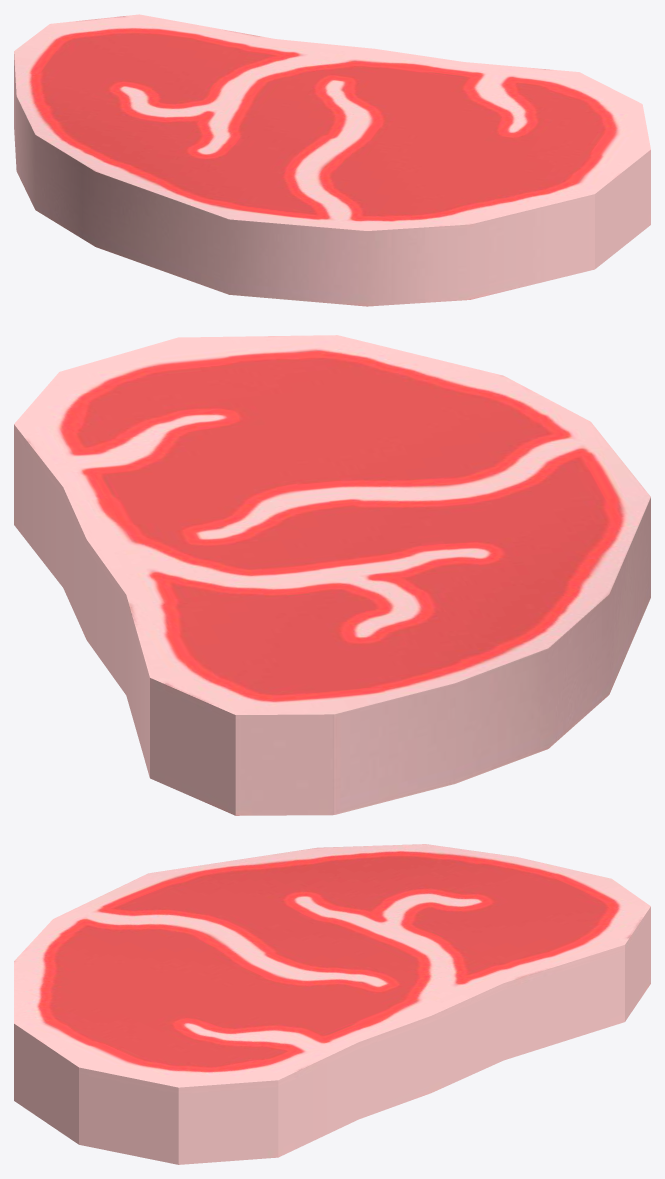
The model's file is 14062653-eaa5-44cb-9849-638d9f51da63.glb.
3 renders of one model, top to bottom at view 1: azimuth 30°, elevation 25°; view 2: azimuth 150°, elevation 25°; view 3: azimuth 270°, elevation 25°, orthographic. The views are drawn at different scales.
Parts seen in each view (by area): view 1: RawSteak; view 2: RawSteak; view 3: RawSteak.
Part boxes in pixels (x1=…): RawSteak: x1=14, y1=14, x2=650, y2=306; RawSteak: x1=14, y1=335, x2=650, y2=815; RawSteak: x1=14, y1=844, x2=650, y2=1164.
Bounding box in the file's own units: 0.3881 × 0.0575 × 0.4289.
Materials: 1 (1 with a texture image).
